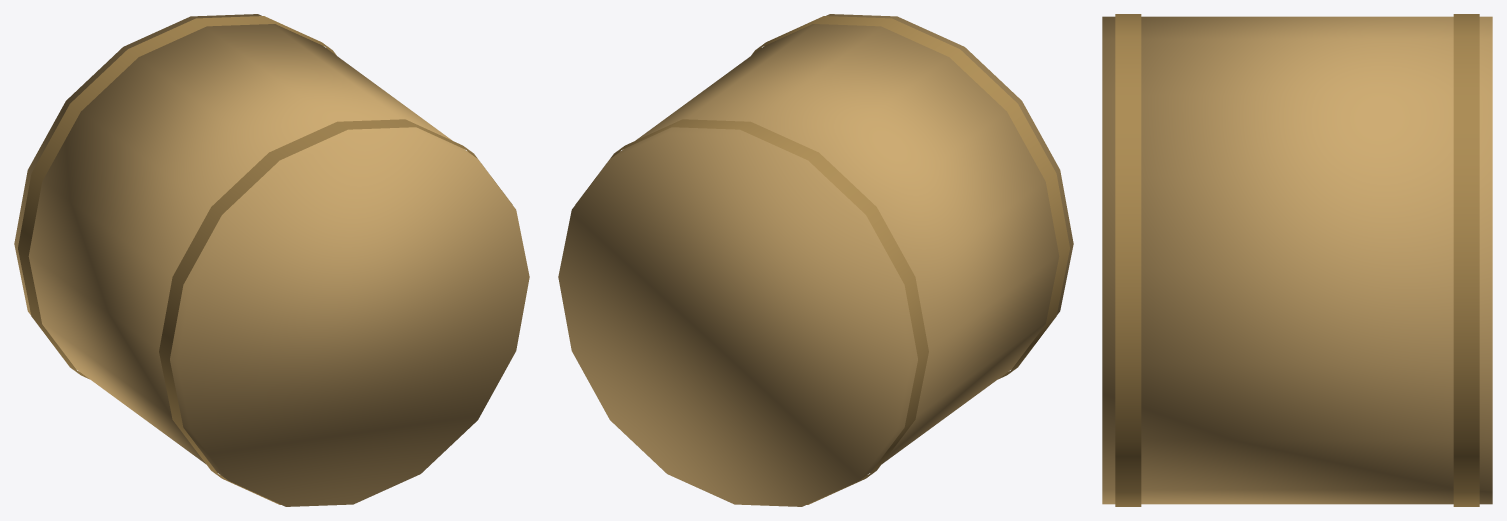
Rendered from hay_bale.glb.
3 views of the same model, side by side, from view 1: azimuth 30°, elevation 25°; view 2: azimuth 150°, elevation 25°; view 3: azimuth 270°, elevation 25° (orthographic). The views are drawn at different scales.
Parts seen in each view (by area): view 1: hay, end_ring_a, end_ring_b; view 2: hay, end_ring_b, end_ring_a; view 3: hay, end_ring_a, end_ring_b.
Part boxes in pixels (left/top/right/bottom): hay: left=14, top=14, right=529, bottom=506; end_ring_a: left=159, top=119, right=512, bottom=504; end_ring_b: left=18, top=16, right=336, bottom=379; hay: left=558, top=14, right=1073, bottom=506; end_ring_b: left=575, top=119, right=928, bottom=504; end_ring_a: left=751, top=16, right=1069, bottom=379; hay: left=1102, top=16, right=1492, bottom=504; end_ring_a: left=1115, top=14, right=1141, bottom=506; end_ring_b: left=1453, top=14, right=1479, bottom=506.
Bounding box in the file's own units: 1.52 × 1.52 × 1.2.
